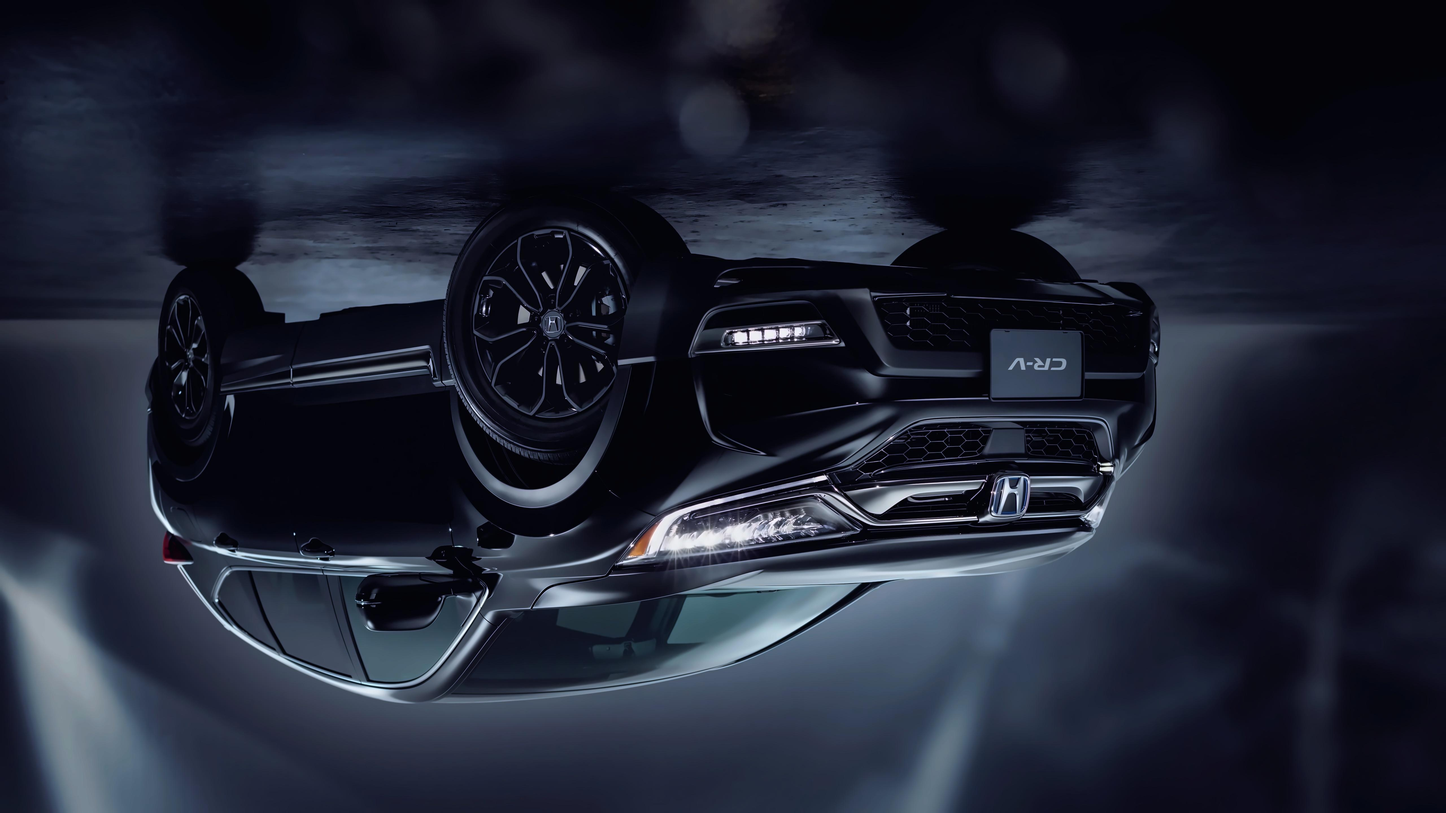Car hood: (524, 547, 1079, 609)
Fender - -F-L-: (442, 363, 658, 623)
Fender - -R-L-: (147, 339, 246, 550)
Front bumper: (620, 250, 1169, 414)
Headlight - -L-: (619, 474, 866, 568)
Passenger-s door - -F-L-: (301, 288, 497, 708)
Passenger-s door - -R-L-: (202, 301, 380, 710)
Side bumper - -L-: (206, 297, 459, 430)
Side mirror - -L-: (360, 553, 480, 634)
